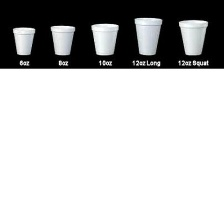paper_cup: (130, 14, 164, 57), (176, 16, 209, 57), (87, 20, 121, 57), (46, 21, 79, 57), (10, 22, 37, 58)
